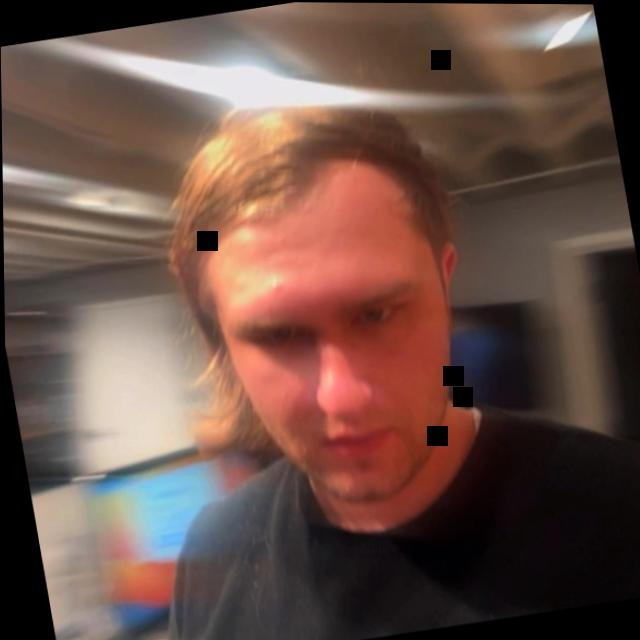NO-Mask: (80, 32, 573, 627)
